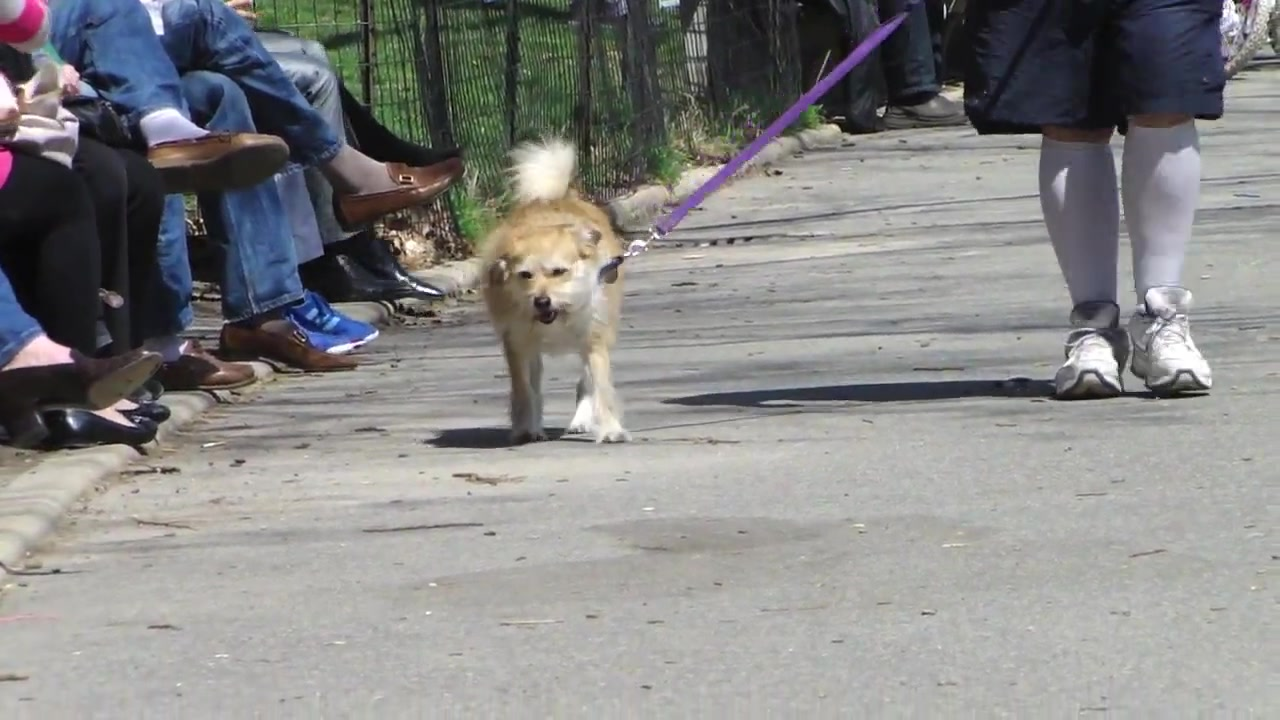dog: (480, 133, 634, 448)
